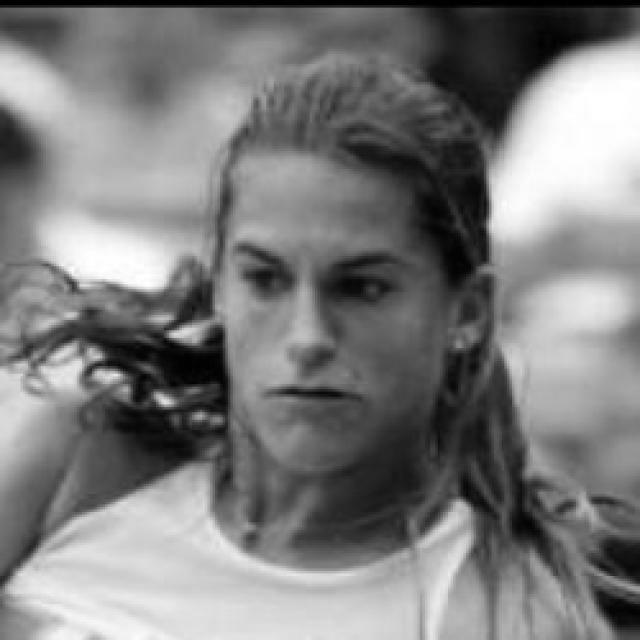real: (222, 71, 493, 507), (232, 245, 410, 312)
